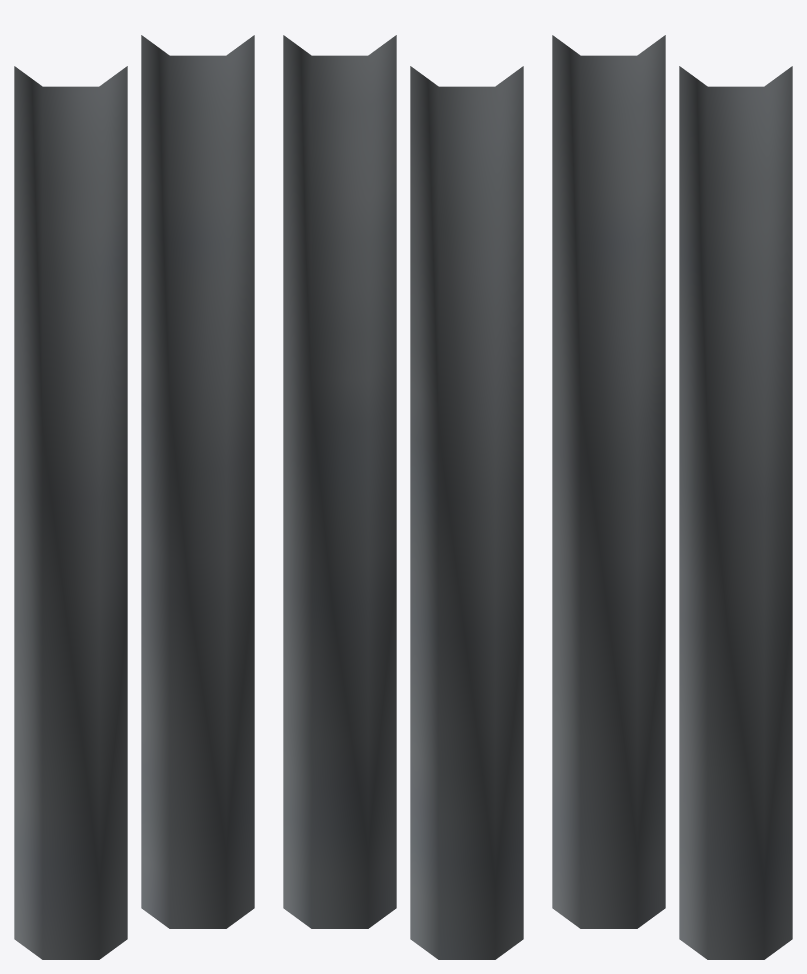
File: grave_factory_door_lock_bars.glb
3 renders of one model, left to right at view 1: azimuth 30°, elevation 25°; view 2: azimuth 150°, elevation 25°; view 3: azimuth 330°, elevation 25°, orthographic.
Parts seen in each view (by area): view 1: 02_door_lock_bars; view 2: 02_door_lock_bars; view 3: 02_door_lock_bars.
Part boxes in pixels (box(x1,y1,x2,y2)): 02_door_lock_bars: box(14, 35, 254, 959); 02_door_lock_bars: box(283, 35, 523, 959); 02_door_lock_bars: box(552, 35, 792, 959).
Bounding box in the file's own units: 0.1532 × 0.6029 × 0.0709.
Materials: 1 (1 with a texture image).
